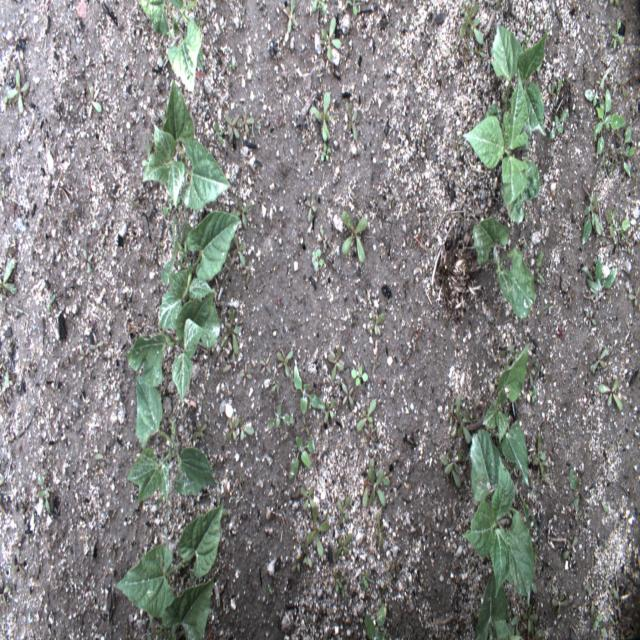crop: (126, 212, 241, 400), (460, 22, 549, 230), (460, 430, 537, 634), (114, 498, 226, 638), (138, 84, 234, 231), (126, 378, 219, 513), (470, 216, 538, 324), (132, 0, 203, 103), (486, 341, 531, 486)
weed: (586, 84, 627, 161), (298, 486, 330, 560), (580, 251, 622, 305), (290, 351, 322, 418), (578, 180, 610, 246), (604, 123, 636, 185), (338, 208, 371, 268), (359, 455, 391, 516), (442, 390, 480, 440), (1, 58, 33, 117), (581, 579, 613, 637), (220, 303, 246, 374), (544, 75, 571, 141), (312, 88, 334, 161), (456, 0, 486, 52), (220, 107, 257, 148), (286, 434, 318, 479), (350, 396, 380, 443), (320, 14, 346, 66), (594, 372, 626, 414), (230, 231, 254, 286), (310, 219, 332, 278), (566, 462, 588, 520), (438, 44, 473, 80), (435, 446, 466, 486), (518, 599, 550, 637), (326, 338, 350, 387), (85, 78, 107, 131), (606, 204, 633, 247), (77, 329, 106, 369), (225, 411, 258, 446), (546, 578, 574, 617), (338, 101, 362, 146), (298, 181, 322, 226), (274, 341, 300, 382), (229, 191, 254, 233), (518, 490, 540, 536), (363, 601, 389, 638), (33, 471, 53, 519), (266, 403, 298, 433), (606, 583, 625, 631), (606, 13, 630, 51), (532, 428, 548, 484), (280, 3, 300, 47), (527, 362, 545, 408), (365, 299, 385, 340), (334, 487, 354, 528), (254, 344, 274, 384), (414, 107, 431, 153), (497, 330, 517, 369), (354, 556, 376, 591), (614, 65, 634, 103), (290, 550, 316, 579), (236, 351, 254, 392), (558, 531, 580, 564), (306, 576, 326, 612), (205, 116, 227, 148), (588, 347, 610, 379), (0, 350, 13, 404), (333, 532, 354, 564), (1, 252, 16, 296), (532, 246, 546, 292), (338, 1, 371, 20), (80, 243, 96, 281), (542, 513, 558, 551), (350, 362, 372, 389), (322, 393, 338, 430), (622, 277, 636, 319), (92, 442, 112, 471), (12, 542, 29, 576), (372, 509, 384, 556), (340, 383, 359, 412), (43, 283, 61, 313), (190, 414, 210, 441), (329, 568, 348, 595), (594, 493, 616, 516), (308, 0, 328, 24), (553, 317, 569, 346), (623, 326, 636, 360), (406, 48, 424, 72), (585, 303, 600, 330), (382, 186, 400, 208), (42, 394, 57, 420), (269, 377, 286, 399), (452, 142, 463, 176), (0, 580, 10, 616), (266, 580, 281, 599), (569, 2, 582, 21), (0, 473, 6, 510), (276, 110, 286, 132), (274, 290, 284, 308)
